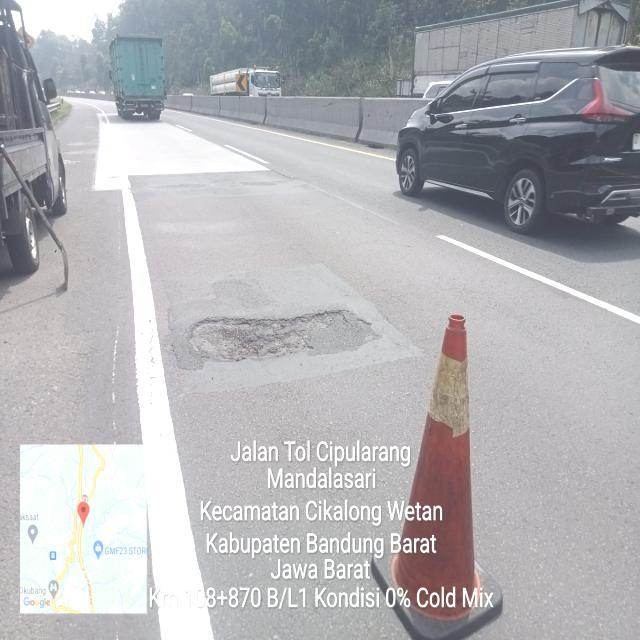Buraco: (183, 307, 384, 364)
